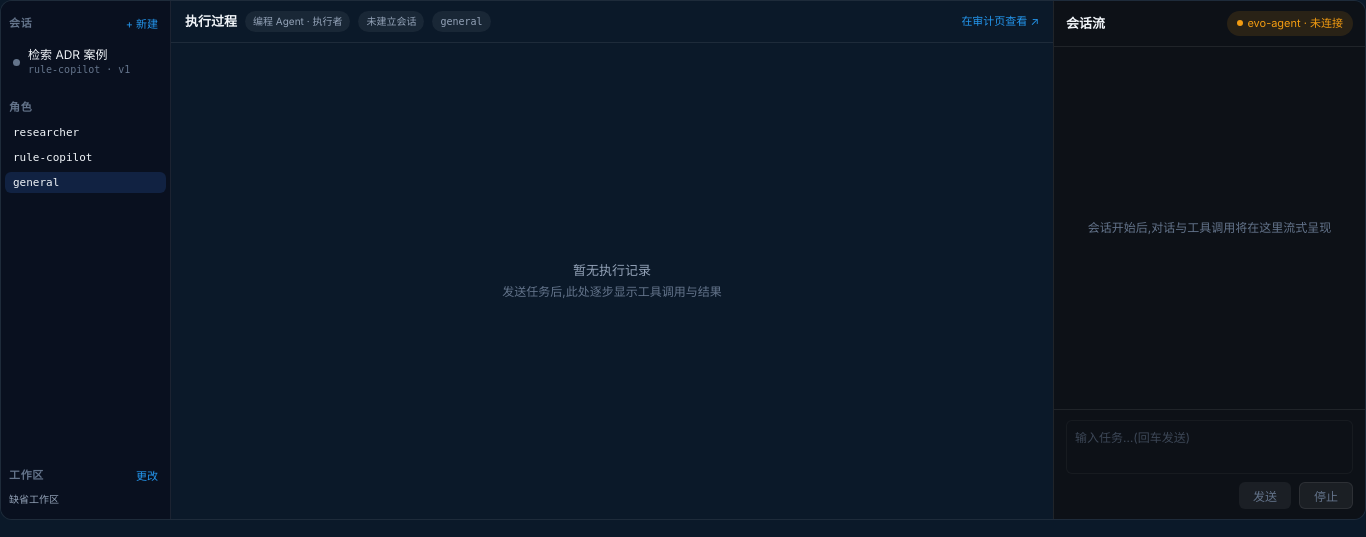
Test: AgentWorkspace — 刷新恢复(续接) › 历史会话点击选中,发送时按会话 ID 续接并呈现续接提示行
The width and height of the screenshot is (1366, 537).
Expected: the text "检索 ADR 案例" is shown, [28,47,107,62]
Expected: the text "rule-copilot · v1" is shown, [28,63,130,77]
Click the button with class "sit" at (86, 62), box [5,39,166,85]
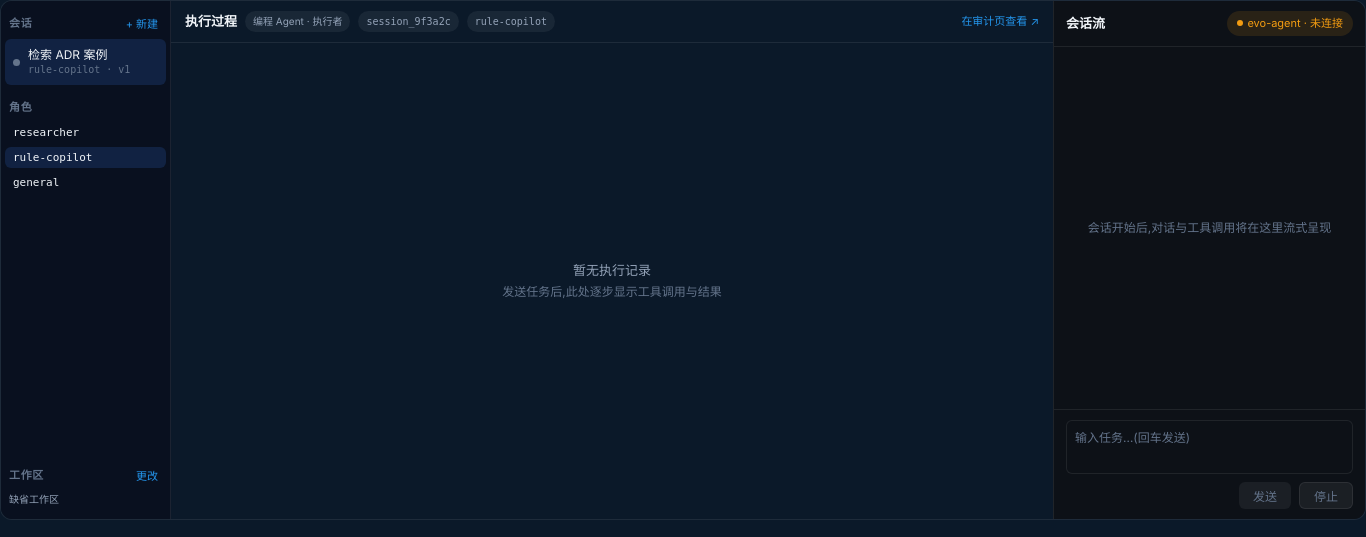
Now the text box with placeholder "输入任务…(回车发送)" is enabled
Type "继续上轮" into the text box with placeholder "输入任务…(回车发送)" at (1210, 447), box [1066,420,1353,474]
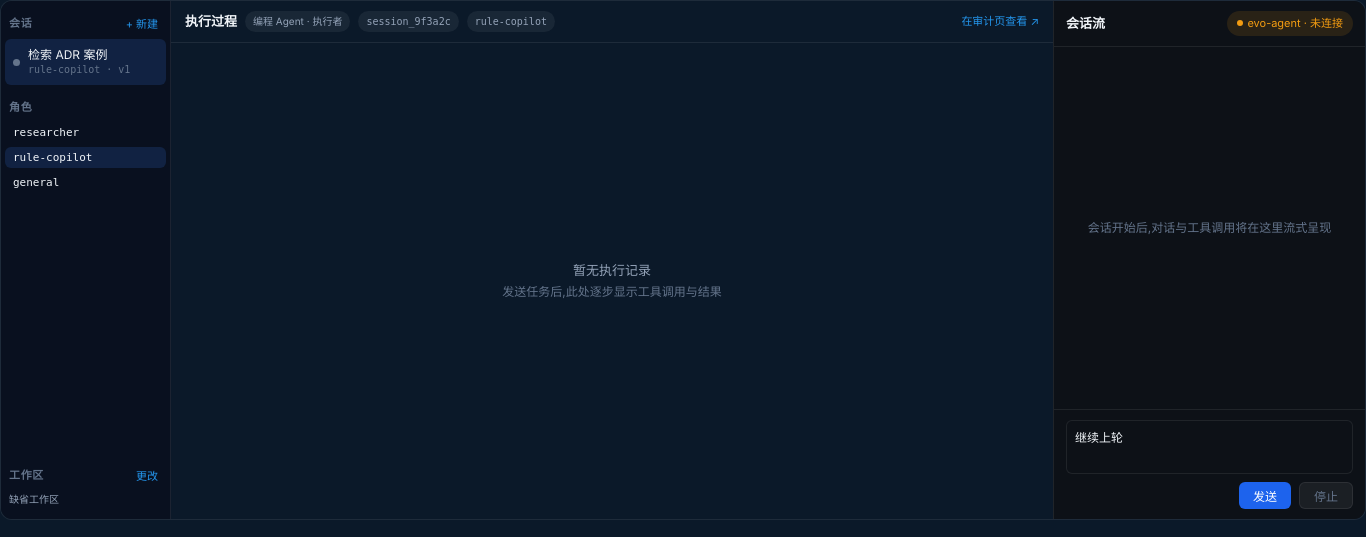
Click the button "发送" at (1265, 496), box [1239,482,1291,509]
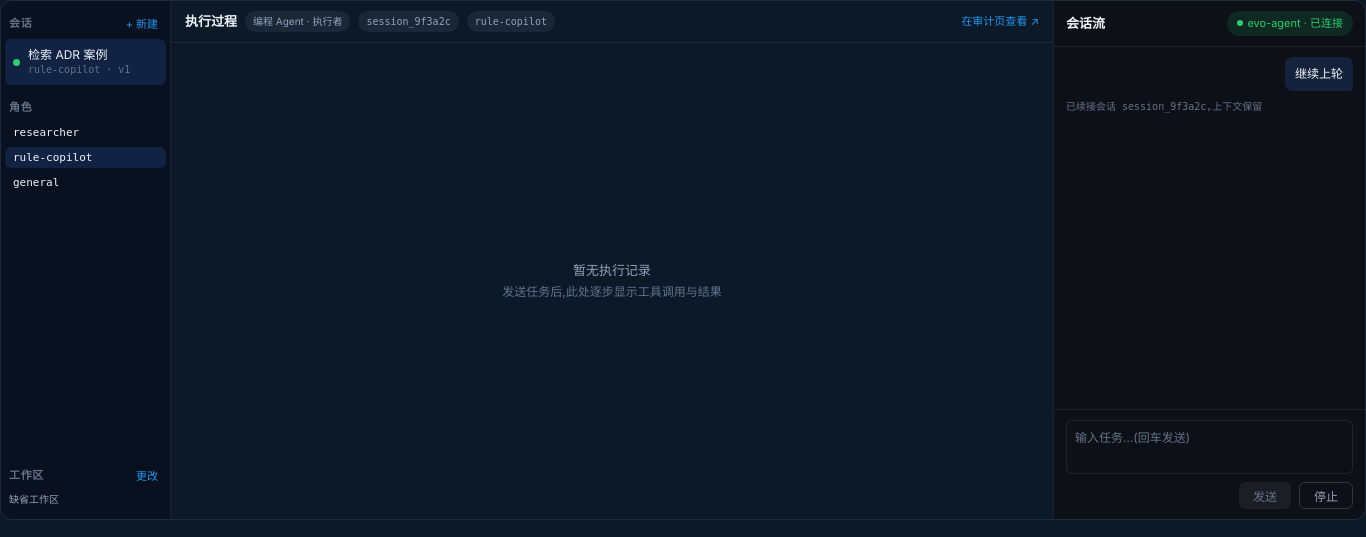
Expected: the text "rule-copilot" below "角色" is shown, [13,150,92,164]
Now the text "session_9f3a2c" is shown, box [358,11,459,32]
Now the text "已续接会话 session_9f3a2c,上下文保留" is shown, box [1066,100,1262,112]
